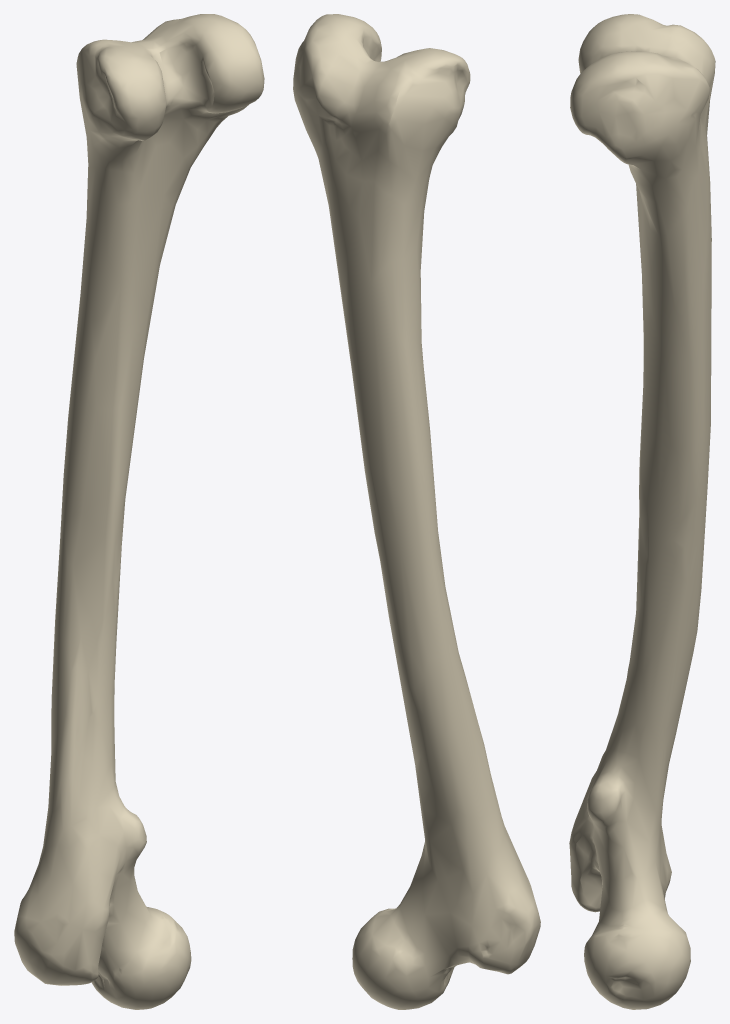
File: femur-anatomical.glb
3 views of the same model, side by side, from view 1: azimuth 30°, elevation 25°; view 2: azimuth 150°, elevation 25°; view 3: azimuth 270°, elevation 25° (orthographic). The views are drawn at different scales.
Visible parts, largest first — view 1: right femur; view 2: right femur; view 3: right femur.
Part boxes in pixels (x1,y1,x2,y2): right femur: (14,14,264,1009); right femur: (293,14,540,1009); right femur: (569,14,715,1009).
Bounding box in the file's own units: 1.78 × 7 × 0.9411.
